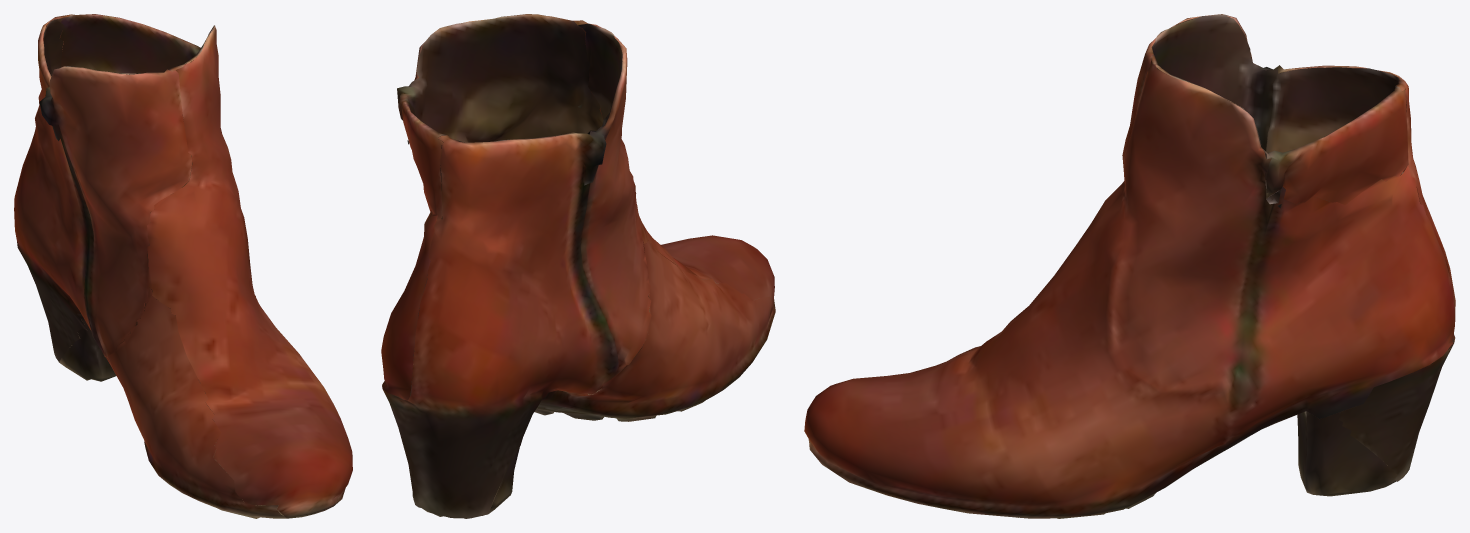
Rendered from ropa_worn_rieker_women_leather_sh.glb.
3 views of the same model, side by side, from view 1: azimuth 30°, elevation 25°; view 2: azimuth 150°, elevation 25°; view 3: azimuth 270°, elevation 25° (orthographic). The views are drawn at different scales.
Parts seen in each view (by area): view 1: Object_2; view 2: Object_2; view 3: Object_2.
Part boxes in pixels (bbox=[...]): Object_2: bbox=[14, 14, 352, 518]; Object_2: bbox=[381, 14, 775, 518]; Object_2: bbox=[804, 14, 1455, 518].
Size of the model in its own units: 0.1291 by 0.2498 by 0.3472.
1 material, 1 textured.
